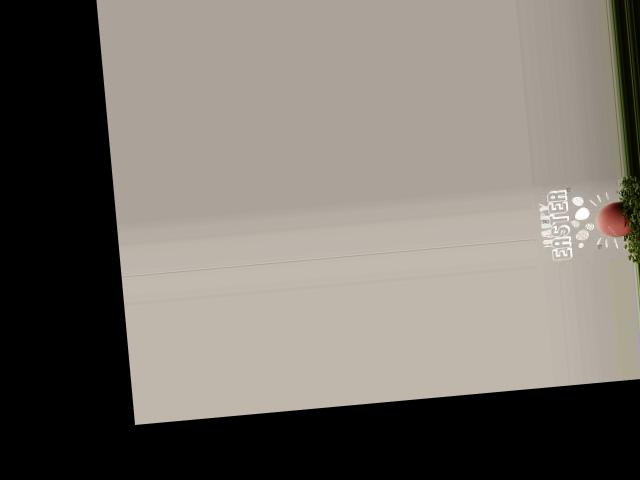egg: (594, 199, 631, 237)
